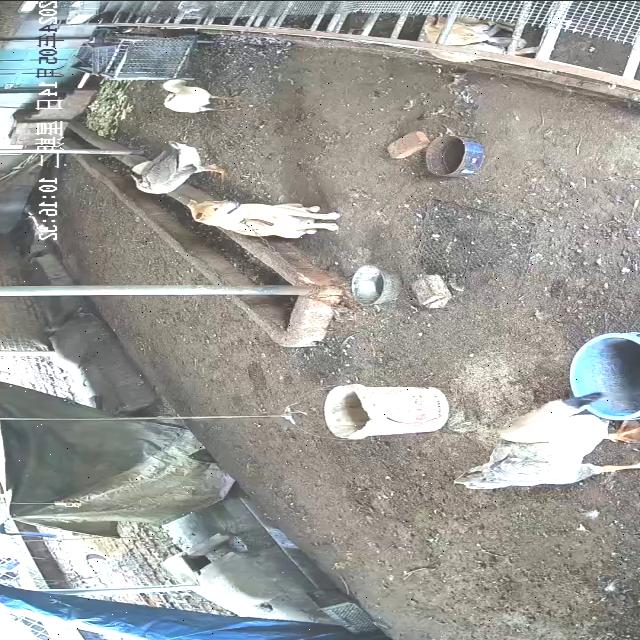dog: (188, 199, 342, 239), (423, 15, 541, 63)
